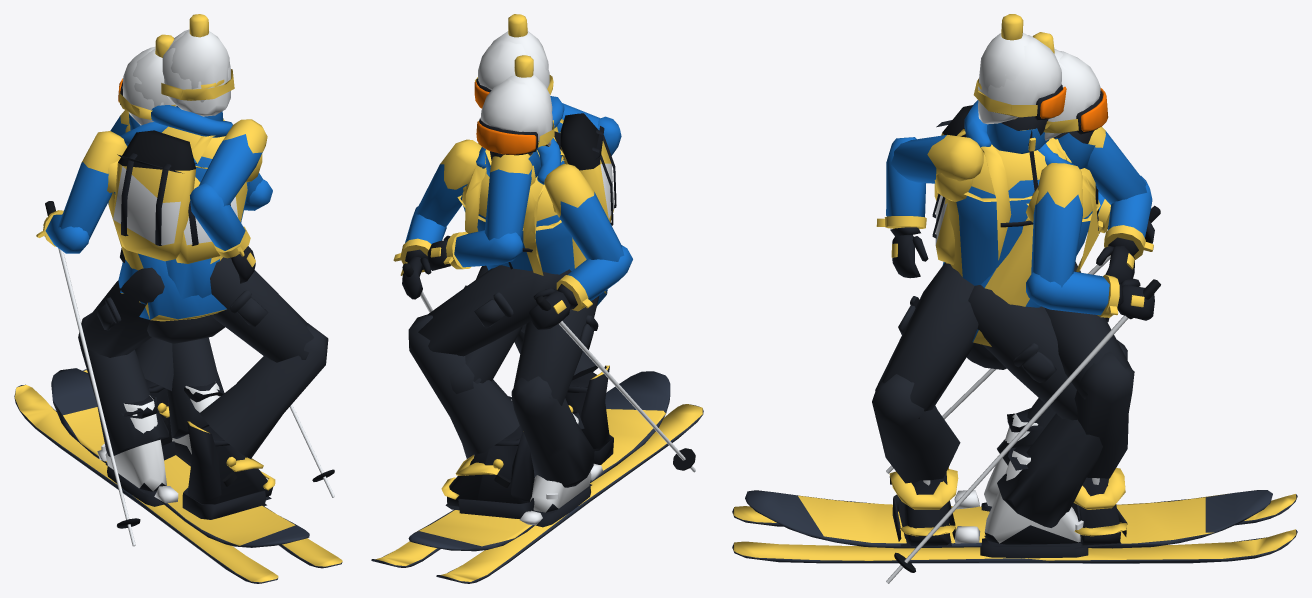
File: npcs.glb
3 renders of one model, left to right at view 1: azimuth 30°, elevation 25°; view 2: azimuth 150°, elevation 25°; view 3: azimuth 270°, elevation 25°, orthographic. The views are drawn at different scales.
Parts seen in each view (by area): view 1: npc_boarder_deck, npc_skier_deck, npc_skier_body, npc_boarder_body, npc_boarder_pack, npc_boarder_beanie, npc_boarder_helmet, npc_skier_beanie, npc_skier_pack, npc_skier_helmet; view 2: npc_boarder_deck, npc_skier_body, npc_skier_deck, npc_boarder_body, npc_boarder_pack, npc_skier_helmet, npc_skier_pack, npc_boarder_helmet, npc_boarder_beanie, npc_skier_beanie; view 3: npc_boarder_deck, npc_skier_deck, npc_boarder_body, npc_skier_body, npc_boarder_helmet, npc_boarder_beanie, npc_boarder_pack, npc_skier_helmet, npc_skier_pack.
Boxes of the visible parts, x1=… form: npc_boarder_deck: x1=51, y1=248, x2=328, y2=547; npc_skier_deck: x1=14, y1=267, x2=342, y2=583; npc_skier_body: x1=36, y1=78, x2=334, y2=546; npc_boarder_body: x1=110, y1=69, x2=267, y2=304; npc_boarder_pack: x1=113, y1=130, x2=215, y2=261; npc_boarder_beanie: x1=167, y1=14, x2=229, y2=102; npc_boarder_helmet: x1=162, y1=29, x2=230, y2=116; npc_skier_beanie: x1=133, y1=34, x2=176, y2=106; npc_skier_pack: x1=176, y1=163, x2=239, y2=263; npc_skier_helmet: x1=122, y1=46, x2=175, y2=125; npc_boarder_deck: x1=408, y1=265, x2=670, y2=551; npc_skier_body: x1=393, y1=118, x2=695, y2=472; npc_skier_deck: x1=371, y1=265, x2=703, y2=583; npc_boarder_body: x1=427, y1=75, x2=621, y2=325; npc_boarder_pack: x1=470, y1=113, x2=616, y2=225; npc_skier_helmet: x1=480, y1=79, x2=552, y2=146; npc_skier_pack: x1=465, y1=131, x2=564, y2=275; npc_boarder_helmet: x1=478, y1=39, x2=549, y2=89; npc_boarder_beanie: x1=490, y1=14, x2=548, y2=70; npc_skier_beanie: x1=500, y1=55, x2=552, y2=146; npc_boarder_deck: x1=745, y1=262, x2=1272, y2=548; npc_skier_deck: x1=732, y1=285, x2=1297, y2=563; npc_boarder_body: x1=876, y1=80, x2=1153, y2=285; npc_skier_body: x1=886, y1=88, x2=1160, y2=583; npc_boarder_helmet: x1=978, y1=35, x2=1061, y2=124; npc_boarder_beanie: x1=978, y1=14, x2=1029, y2=119; npc_boarder_pack: x1=934, y1=105, x2=1071, y2=260; npc_skier_helmet: x1=1044, y1=51, x2=1100, y2=140; npc_skier_pack: x1=932, y1=175, x2=1102, y2=271.
Size of the model in its own units: 0.8427 by 1.75 by 1.68.
